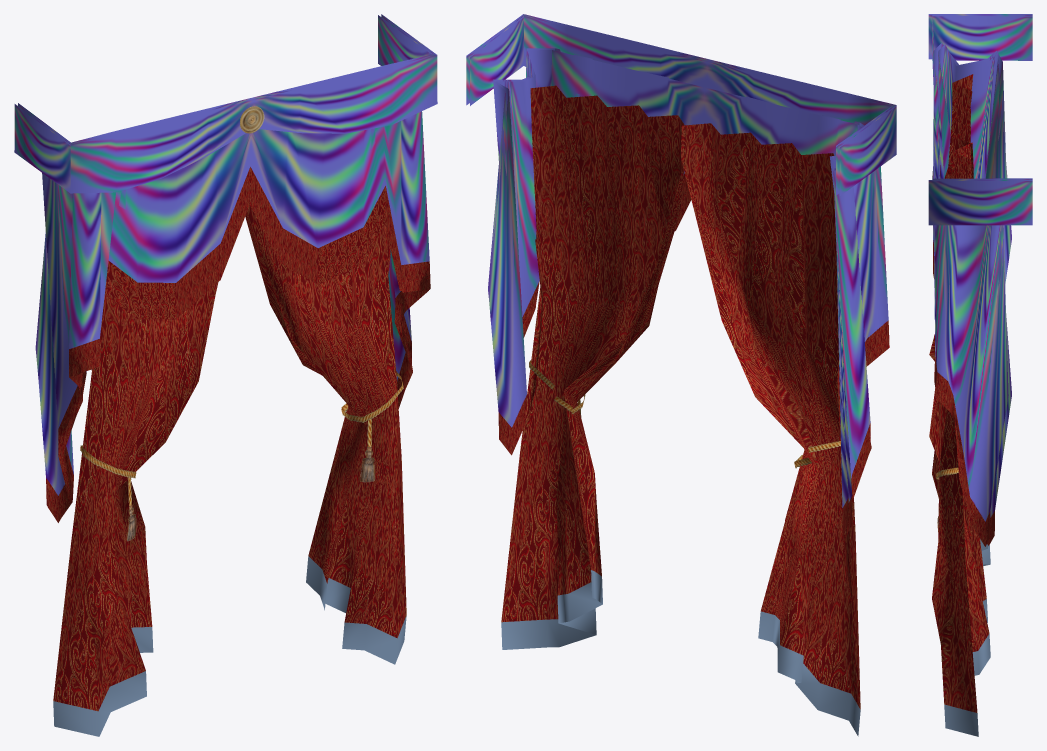
Rendered from Curtains2.fbx.
3 renders of one model, left to right at view 1: azimuth 30°, elevation 25°; view 2: azimuth 150°, elevation 25°; view 3: azimuth 270°, elevation 25°, orthographic. The views are drawn at different scales.
Visible parts, largest first — view 1: Curtains2_LOD0; view 2: Curtains2_LOD0; view 3: Curtains2_LOD0.
Part boxes in pixels (x1,y1,x2,y2): Curtains2_LOD0: [14, 14, 437, 736]; Curtains2_LOD0: [466, 14, 896, 736]; Curtains2_LOD0: [928, 14, 1032, 736].
Size of what is drawn, in the model's own units: 337 by 534 by 92.16.
